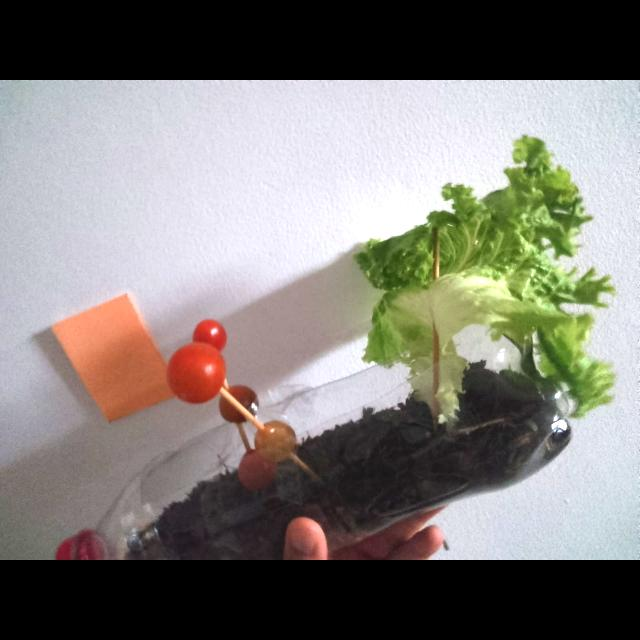card: (52, 295, 173, 421)
fruit_maturation: (254, 421, 296, 463)
fully_grown: (167, 319, 259, 411), (219, 395, 277, 489)
